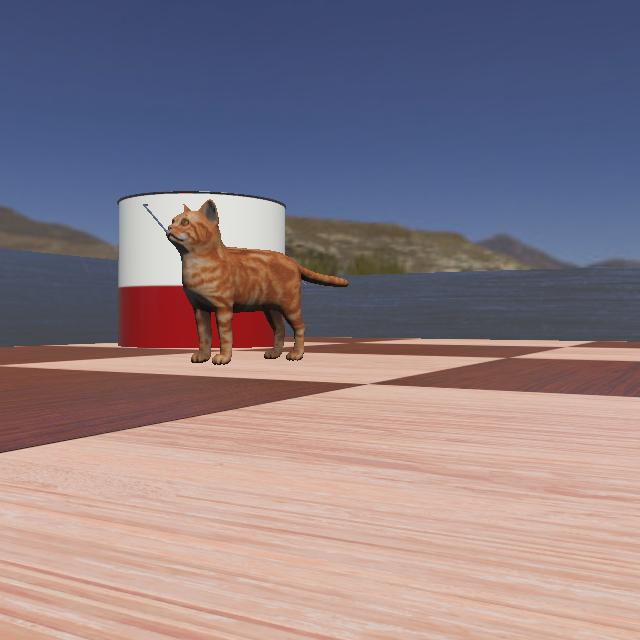cat: (156, 194, 360, 366)
